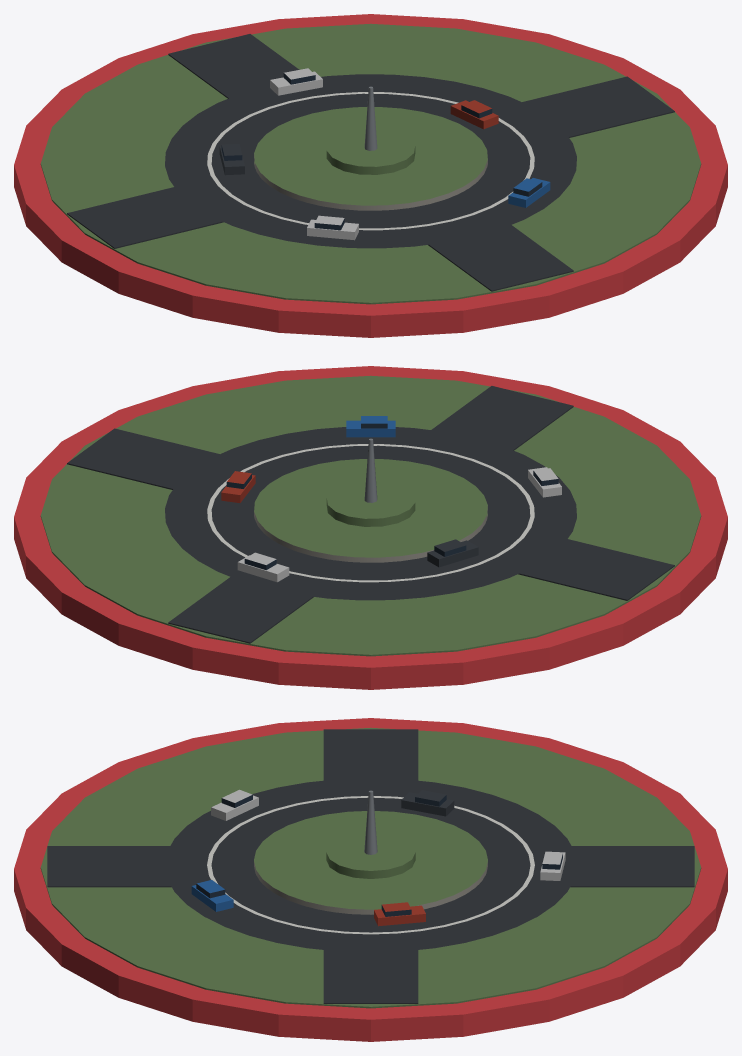
The model's file is roundabout_red.glb.
3 views of the same model, one above another, from view 1: azimuth 30°, elevation 25°; view 2: azimuth 150°, elevation 25°; view 3: azimuth 270°, elevation 25° (orthographic).
Parts seen in each view (by area): view 1: roundabout_red; view 2: roundabout_red; view 3: roundabout_red.
Part boxes in pixels (x1=…): roundabout_red: x1=14, y1=14, x2=727, y2=337; roundabout_red: x1=14, y1=366, x2=727, y2=689; roundabout_red: x1=14, y1=718, x2=727, y2=1041.
Bounding box in the file's own units: 64 × 9.85 × 64.
